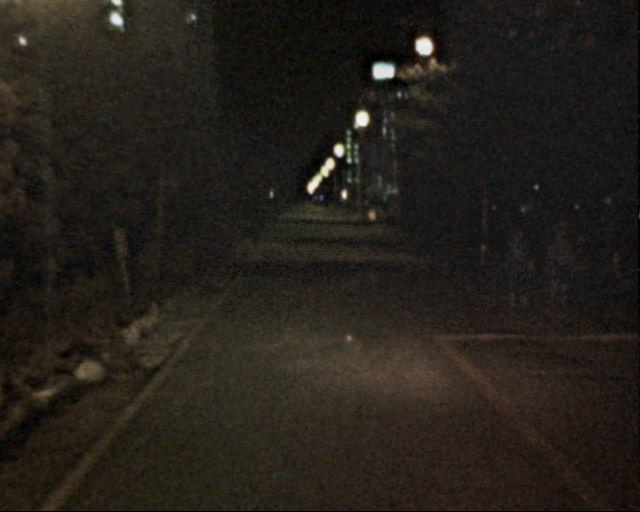person: (540, 221, 582, 323), (500, 232, 536, 319)
